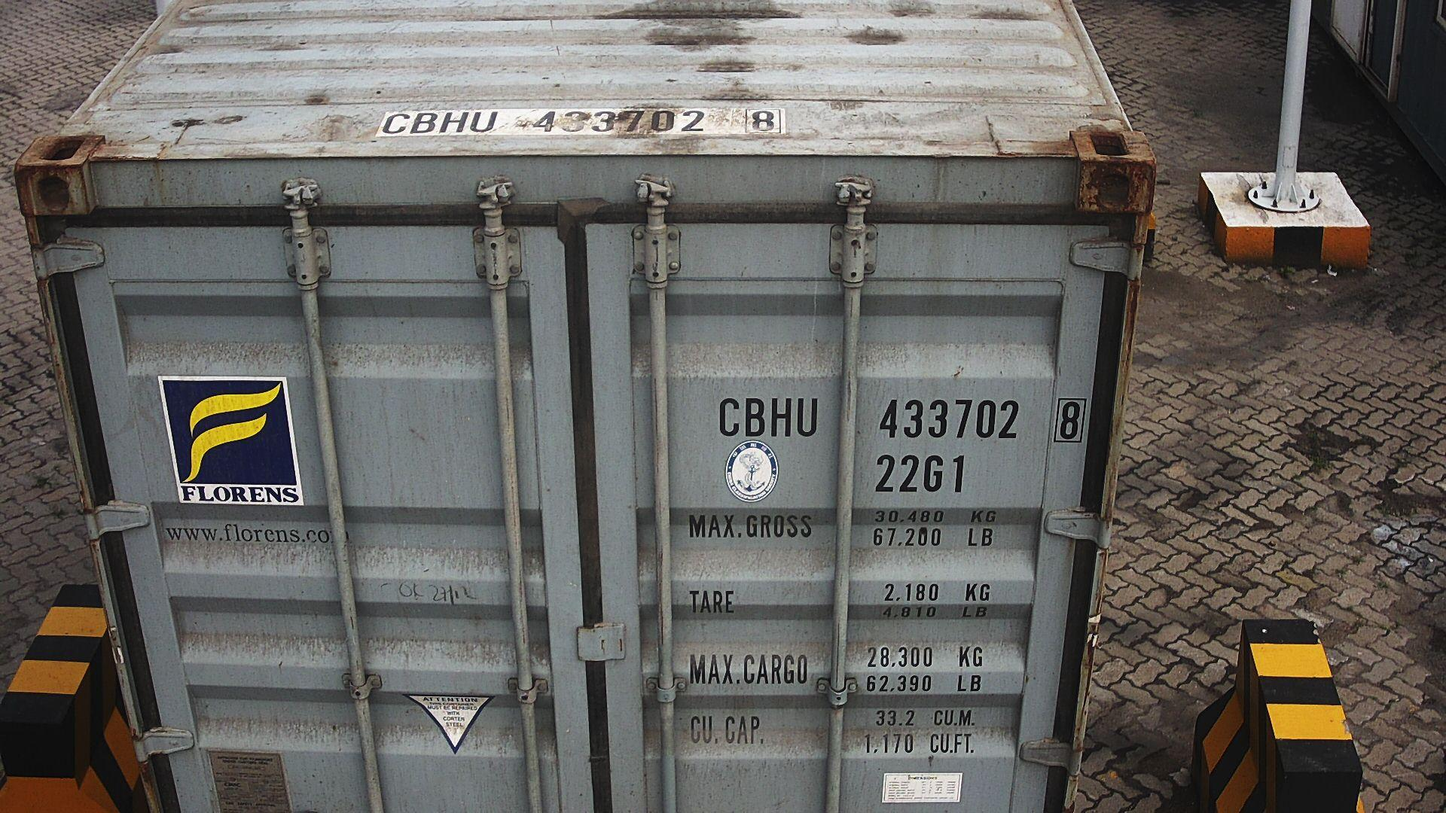container-numbers: (712, 393, 1091, 445), (379, 110, 786, 139), (871, 451, 970, 496)
